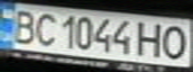0: (72, 13, 93, 51)
1: (54, 12, 78, 48)
4: (112, 17, 139, 55), (90, 16, 115, 53)
B: (6, 7, 39, 44)
C: (30, 10, 60, 47)
H: (136, 20, 166, 58)
O: (157, 24, 193, 61)
